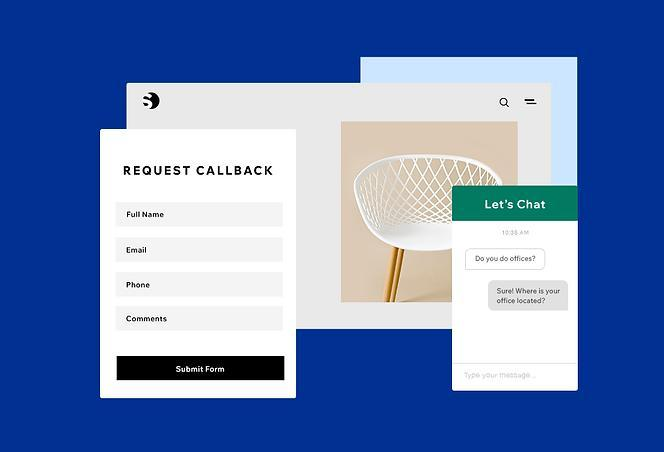button: (117, 357, 286, 382)
icon: (139, 89, 166, 115), (523, 97, 542, 110), (500, 95, 513, 112)
input: (117, 200, 282, 230), (117, 235, 283, 263), (117, 272, 284, 298), (116, 308, 282, 332), (453, 363, 579, 392)
label: (117, 164, 276, 180)
